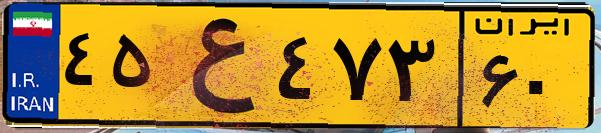0: (525, 38, 570, 115)
3: (385, 28, 445, 110)
4: (270, 28, 330, 110), (57, 26, 110, 100)
5: (110, 28, 158, 98)
6: (475, 38, 525, 113)
7: (330, 28, 385, 110)
ع: (158, 12, 270, 120)
